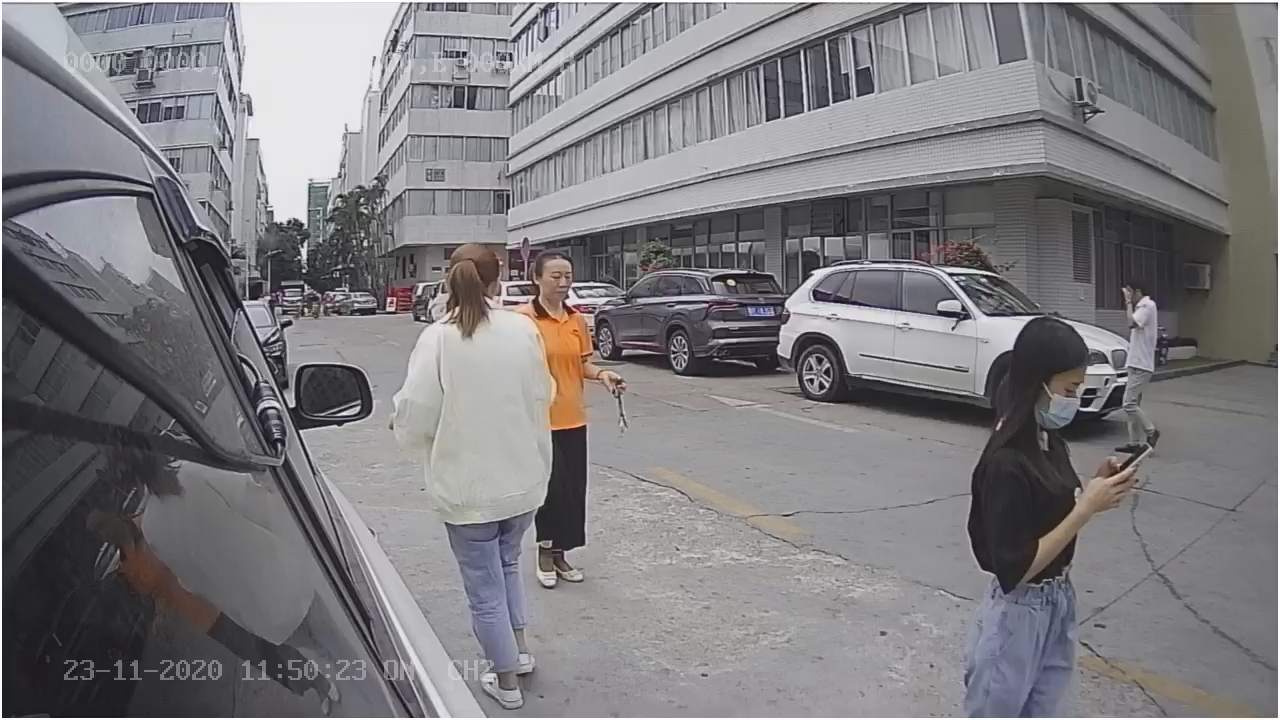person: (1098, 278, 1167, 452)
